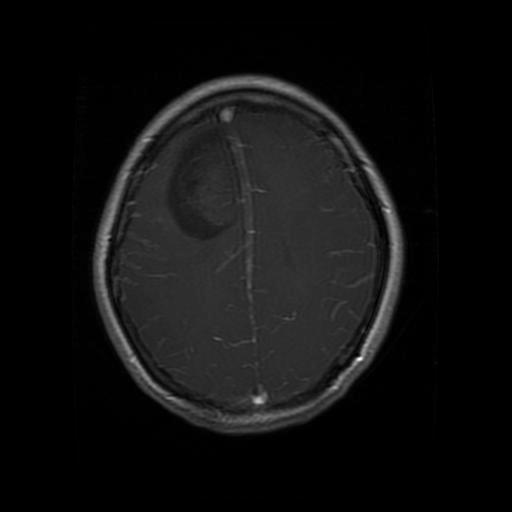Tumour-Glioma: (175, 130, 240, 236)
